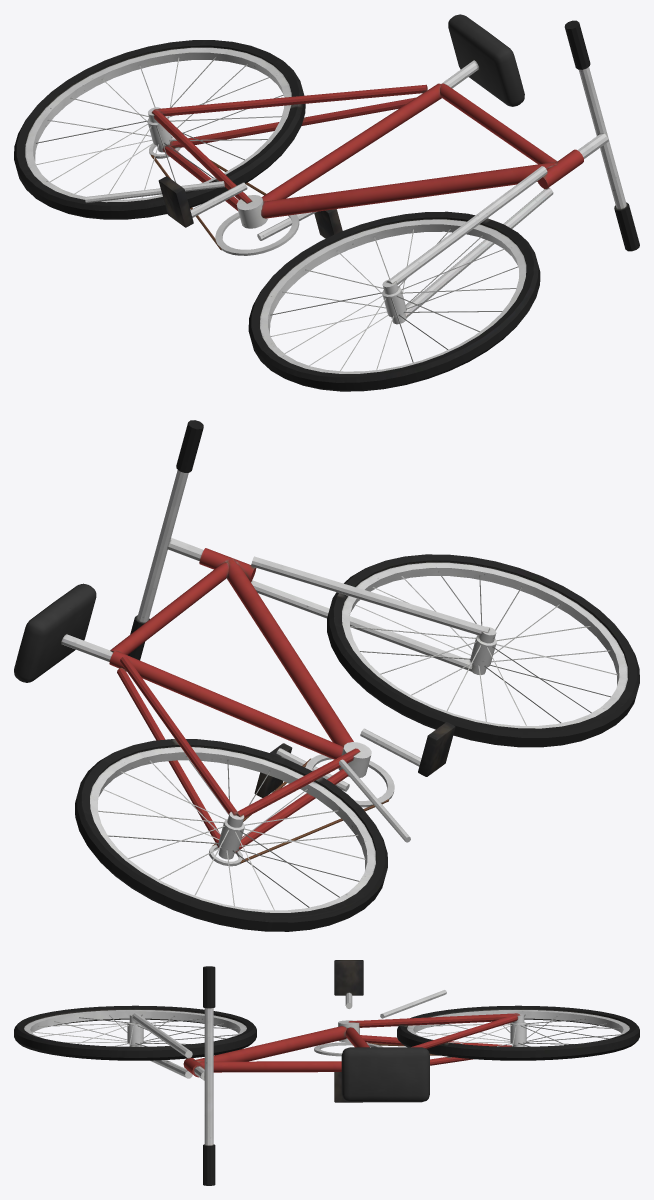
File: bicicleta.glb
The picture shows the model from 3 angles, top to bottom: view 1: azimuth 30°, elevation 25°; view 2: azimuth 150°, elevation 25°; view 3: azimuth 270°, elevation 25°; orthographic projection. The views are drawn at different scales.
Parts seen in each view (by area): view 1: bicicleta; view 2: bicicleta; view 3: bicicleta.
Boxes of the visible parts, left/top/right/bottom form: bicicleta: left=14, top=14, right=639, bottom=391; bicicleta: left=14, top=420, right=639, bottom=931; bicicleta: left=14, top=960, right=639, bottom=1185.
Size of the model in its own units: 1.06 by 0.5928 by 1.7.
1 material, 1 textured.
